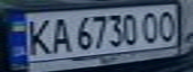0: (121, 11, 142, 46)
3: (106, 11, 127, 47)
6: (72, 14, 93, 52)
7: (90, 12, 109, 48)
A: (48, 15, 72, 54)
K: (21, 16, 54, 56)
O: (139, 9, 163, 44), (154, 7, 178, 42)
